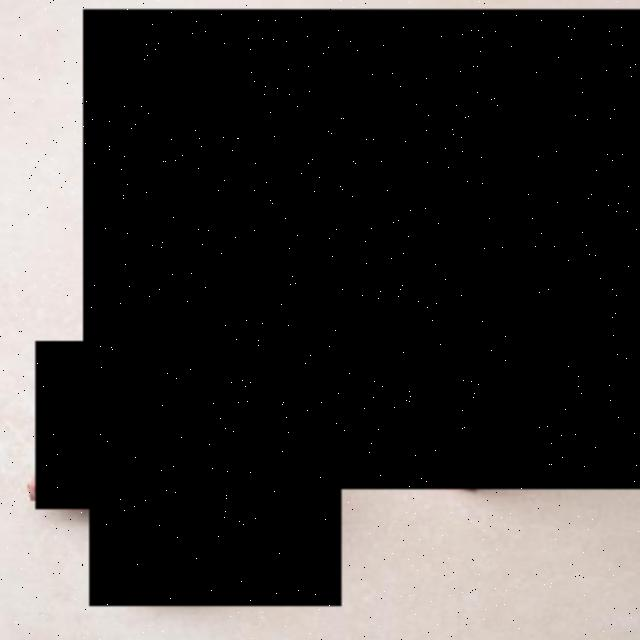Sweet_Potato: (83, 9, 640, 488), (36, 341, 322, 510), (90, 418, 341, 607)
